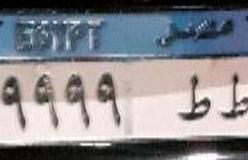9: (27, 72, 59, 127), (92, 72, 124, 125), (0, 73, 27, 132), (63, 71, 90, 129)
Taa: (176, 70, 211, 124), (216, 72, 248, 125)
